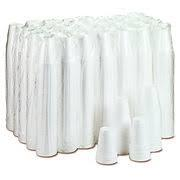Plastic cup: (3, 3, 180, 180)
